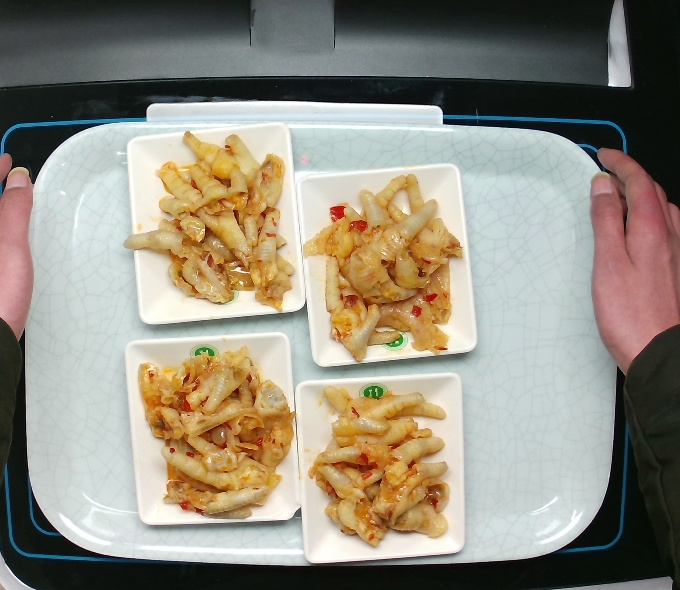wcq-LuJiZhua: (121, 116, 304, 318), (300, 158, 466, 363), (126, 335, 297, 519), (307, 370, 457, 547)
